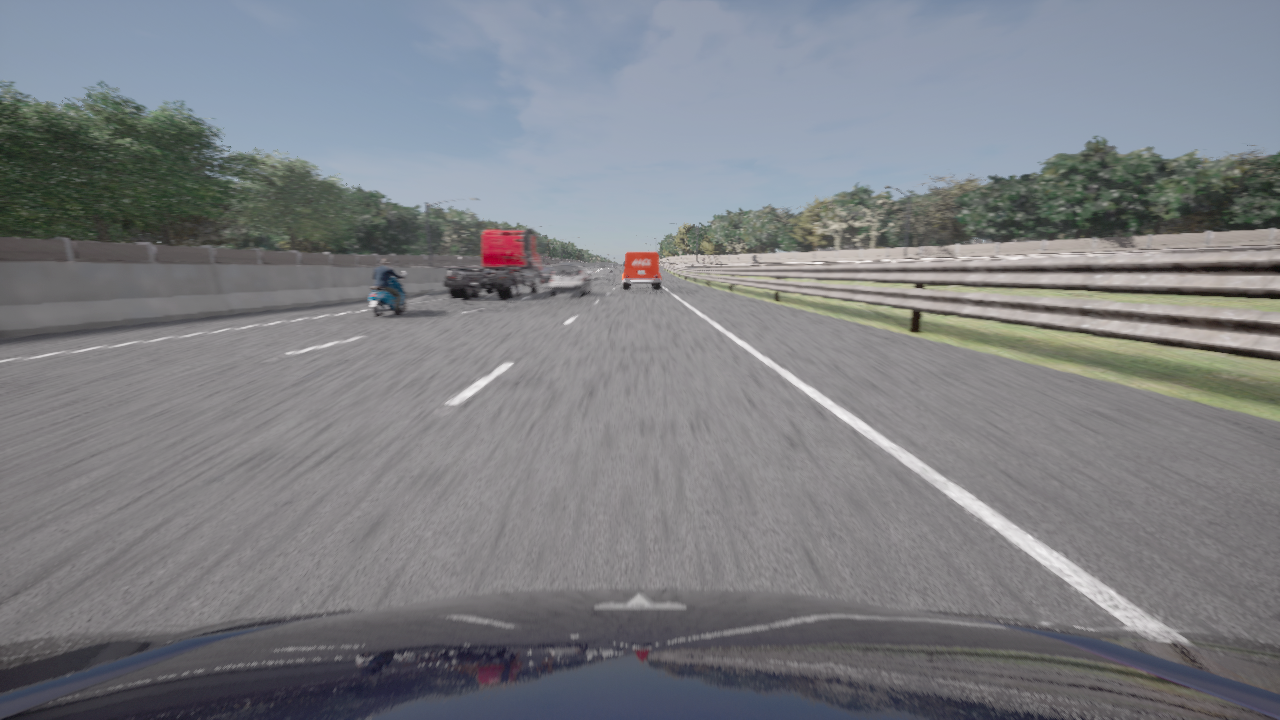cyclist: (0, 588, 1279, 719), (443, 228, 544, 298), (369, 271, 405, 317), (549, 263, 591, 296), (622, 253, 660, 288), (541, 267, 554, 283), (585, 269, 591, 278)
